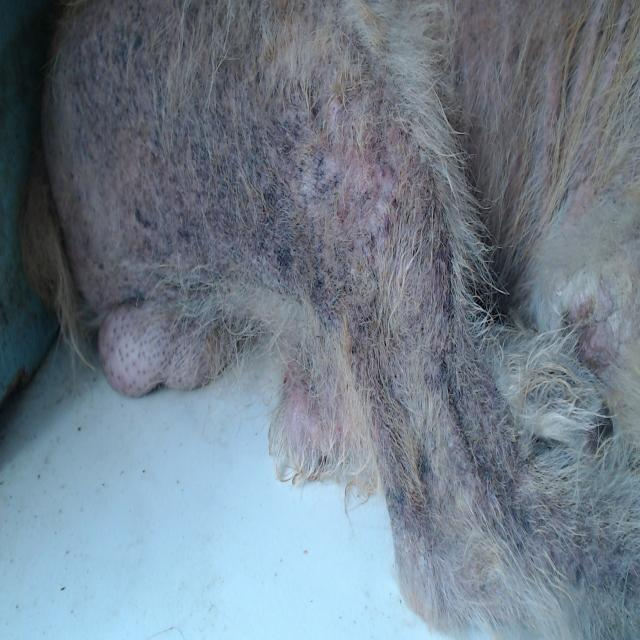demodicosis: (91, 34, 412, 268), (357, 318, 521, 561), (457, 13, 569, 143)
